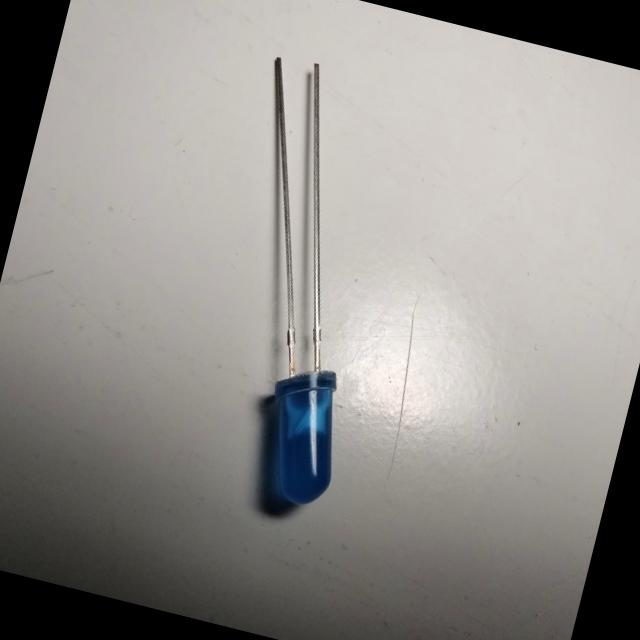blue_led: (243, 356, 357, 522)
